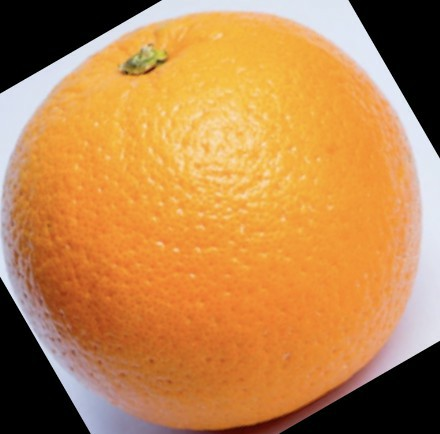fresh_orange: (8, 11, 422, 432)
